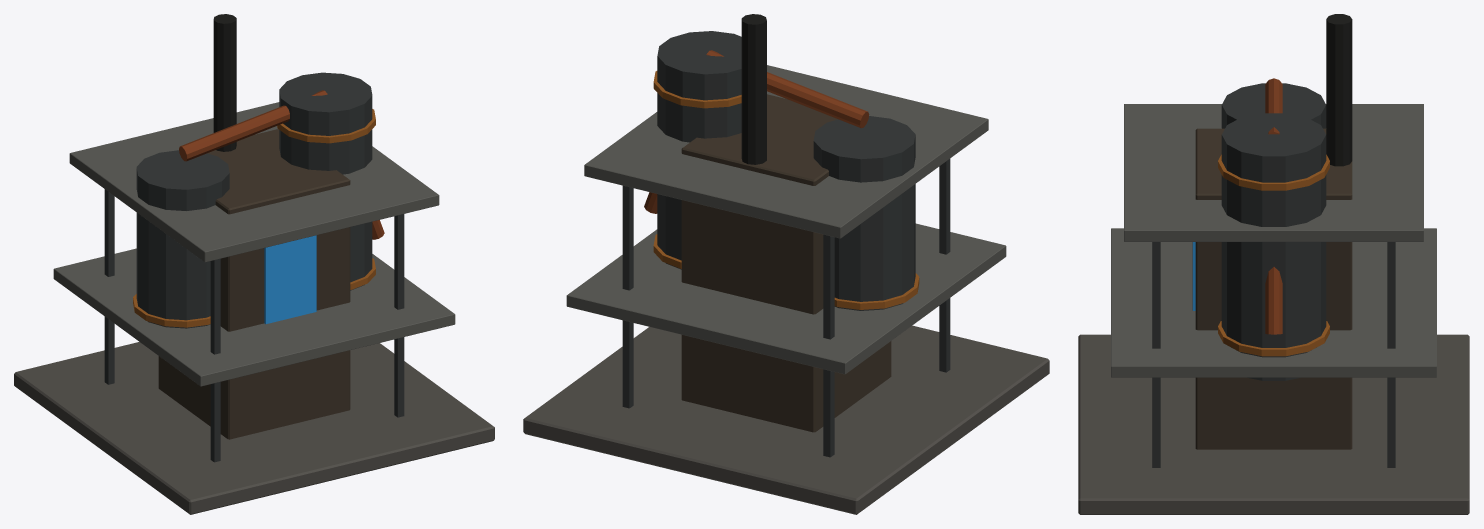
File: BrassRefineryTowerV2.glb
3 renders of one model, left to right at view 1: azimuth 30°, elevation 25°; view 2: azimuth 150°, elevation 25°; view 3: azimuth 270°, elevation 25°, orthographic. The views are drawn at different scales.
Visible parts, largest first — view 1: BrassRefineryTowerV2; view 2: BrassRefineryTowerV2; view 3: BrassRefineryTowerV2.
Part boxes in pixels (left/top/right/bottom): BrassRefineryTowerV2: left=14, top=14, right=494, bottom=514; BrassRefineryTowerV2: left=523, top=14, right=1049, bottom=514; BrassRefineryTowerV2: left=1078, top=14, right=1469, bottom=514.
Bounding box in the file's own units: 30 × 35 × 30.
1 material, 1 textured.
